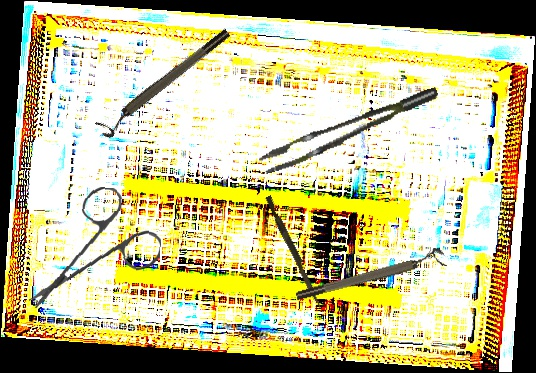Fixation Ring: (94, 26, 237, 141), (293, 246, 447, 303)
Iris Scissors: (28, 181, 166, 319)
Pusher: (262, 195, 326, 308)
Tissue Forceps: (253, 87, 446, 175)
